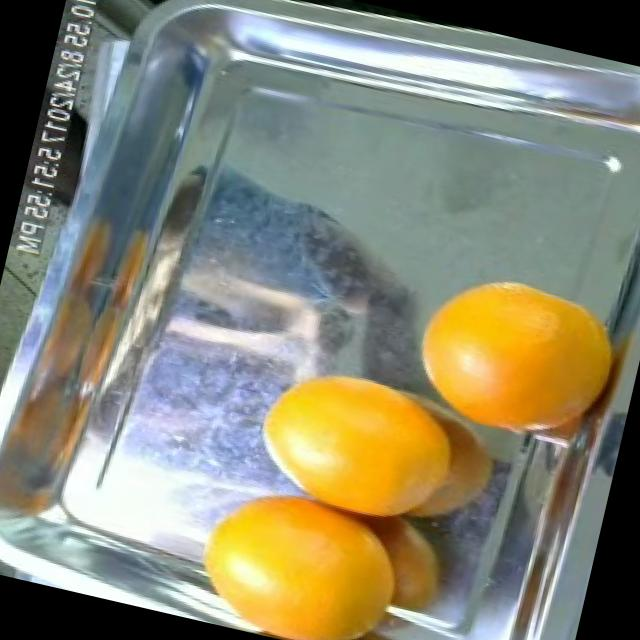Fruit: (229, 338, 454, 536), (393, 247, 615, 446), (169, 461, 399, 640)
